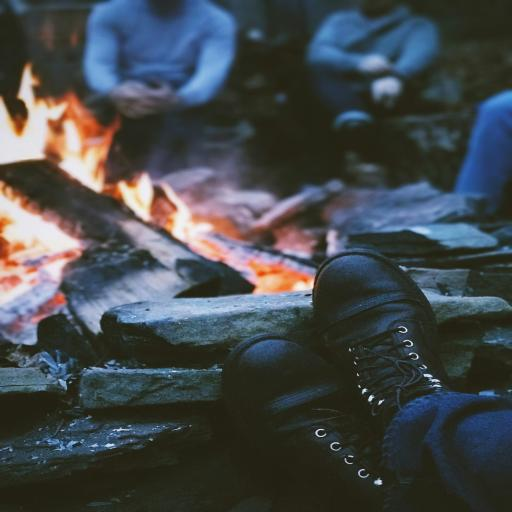campfire: (0, 24, 334, 315)
